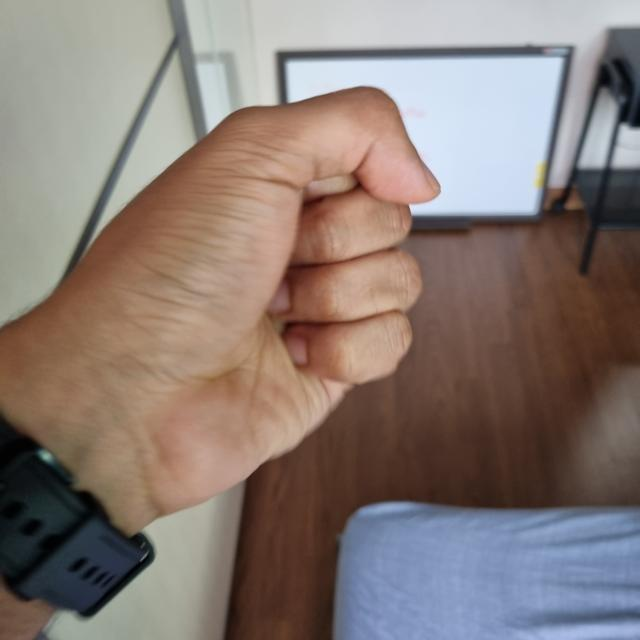Rock: (1, 84, 436, 516)
